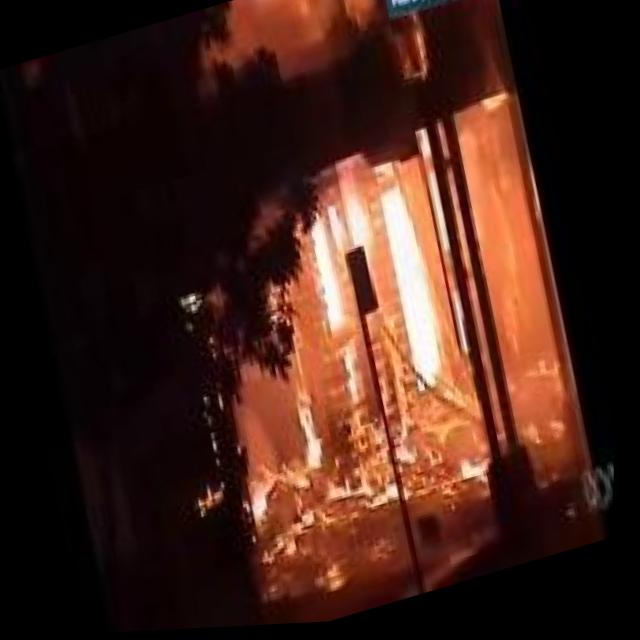fire: (359, 172, 470, 407), (280, 187, 402, 360), (222, 392, 353, 545), (321, 435, 502, 536), (188, 472, 239, 525)
